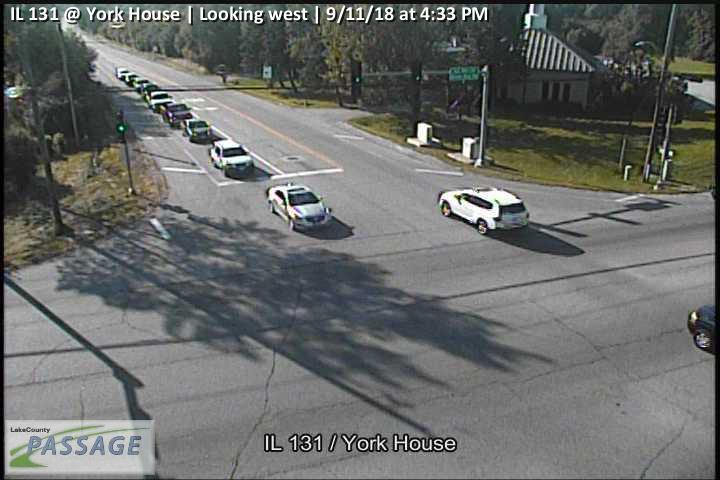SUV: (437, 183, 529, 234)
Sedan: (267, 181, 333, 231), (209, 138, 254, 180), (162, 101, 193, 125), (183, 117, 211, 142)
